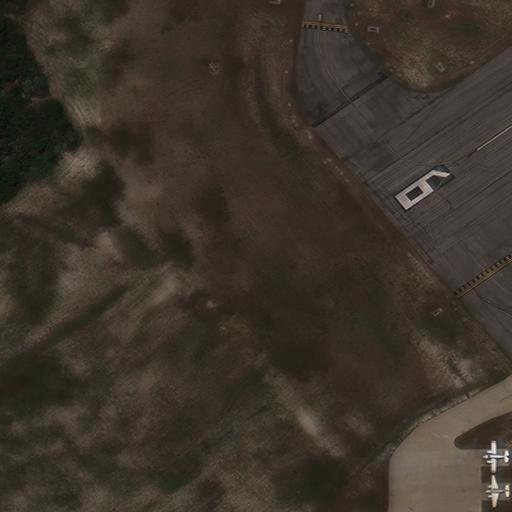Small Civil Transport: (482, 439, 510, 473), (485, 475, 510, 508)
